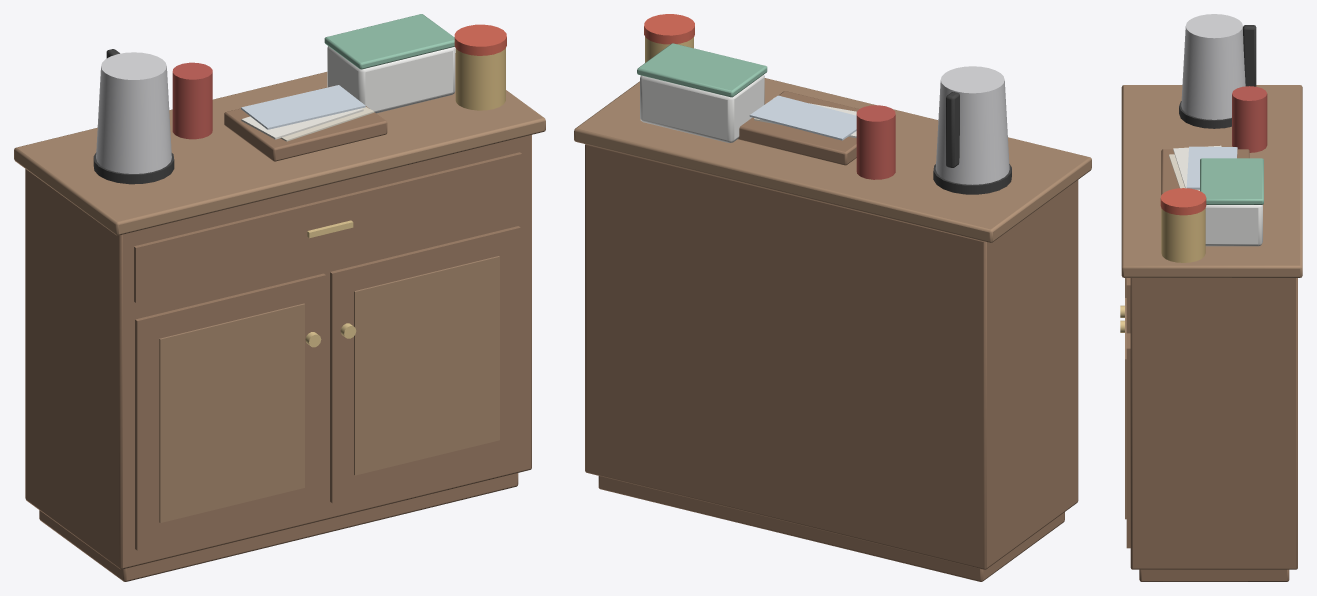
Rendered from dn_console.fbx.
The picture shows the model from 3 angles, left to right: view 1: azimuth 30°, elevation 25°; view 2: azimuth 150°, elevation 25°; view 3: azimuth 270°, elevation 25°; orthographic projection. The views are drawn at different scales.
Visible parts, largest first — view 1: Body.004, Top.006, DoorPanel.002, DoorPanel.003, Drawer.003, Door.004, Door.005, Kettle.001, Plinth.003, MedBox, MedLid, MailTray (+6 smaller); view 2: Body.004, Top.006, Kettle.001, Plinth.003, MedBox, MedLid, MailTray, TeaTin2, Envelope.003, CandyLid, KettleHandle.001, KettleBase; view 3: Body.004, Top.006, Kettle.001, MedLid, MedBox, TeaTin2, CandyJar, Plinth.003, CandyLid, Door.005, Envelope.003, KettleHandle.001 (+5 smaller).
Boxes of the visible parts, x1=… form: Body.004: x1=25, y1=135, x2=531, y2=569; Top.006: x1=14, y1=53, x2=545, y2=235; DoorPanel.002: x1=159, y1=303, x2=304, y2=522; DoorPanel.003: x1=354, y1=256, x2=499, y2=475; Drawer.003: x1=134, y1=152, x2=521, y2=302; Door.004: x1=135, y1=273, x2=325, y2=550; Door.005: x1=330, y1=226, x2=520, y2=502; Kettle.001: x1=96, y1=52, x2=171, y2=173; Plinth.003: x1=39, y1=473, x2=518, y2=581; MedBox: x1=327, y1=46, x2=455, y2=113; MedLid: x1=324, y1=14, x2=454, y2=69; MailTray: x1=224, y1=86, x2=387, y2=161; Body.004: x1=585, y1=144, x2=1078, y2=569; Top.006: x1=574, y1=78, x2=1091, y2=242; Kettle.001: x1=935, y1=66, x2=1009, y2=184; Plinth.003: x1=598, y1=476, x2=1064, y2=581; MedBox: x1=640, y1=75, x2=764, y2=142; MedLid: x1=637, y1=43, x2=767, y2=97; MailTray: x1=738, y1=91, x2=858, y2=165; TeaTin2: x1=856, y1=105, x2=895, y2=179; Envelope.003: x1=749, y1=95, x2=856, y2=140; CandyLid: x1=644, y1=14, x2=694, y2=44; KettleHandle.001: x1=946, y1=92, x2=959, y2=167; KettleBase: x1=933, y1=164, x2=1011, y2=194; Body.004: x1=1130, y1=278, x2=1297, y2=569; Top.006: x1=1121, y1=85, x2=1302, y2=277; Kettle.001: x1=1181, y1=14, x2=1245, y2=119; MedLid: x1=1200, y1=158, x2=1263, y2=204; MedBox: x1=1205, y1=205, x2=1262, y2=246; TeaTin2: x1=1232, y1=86, x2=1267, y2=152; CandyJar: x1=1161, y1=208, x2=1205, y2=262; Plinth.003: x1=1139, y1=569, x2=1289, y2=581; CandyLid: x1=1160, y1=188, x2=1206, y2=215; Door.005: x1=1126, y1=333, x2=1130, y2=548; Envelope.003: x1=1186, y1=146, x2=1237, y2=189; KettleHandle.001: x1=1243, y1=25, x2=1256, y2=86.
Bounding box in the file's own units: 0.98 × 1.03 × 0.413.
